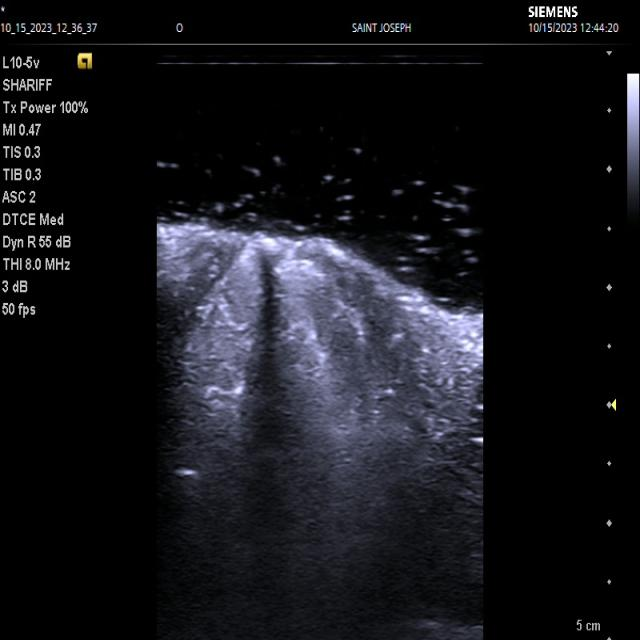tissue: (174, 233, 378, 462)
